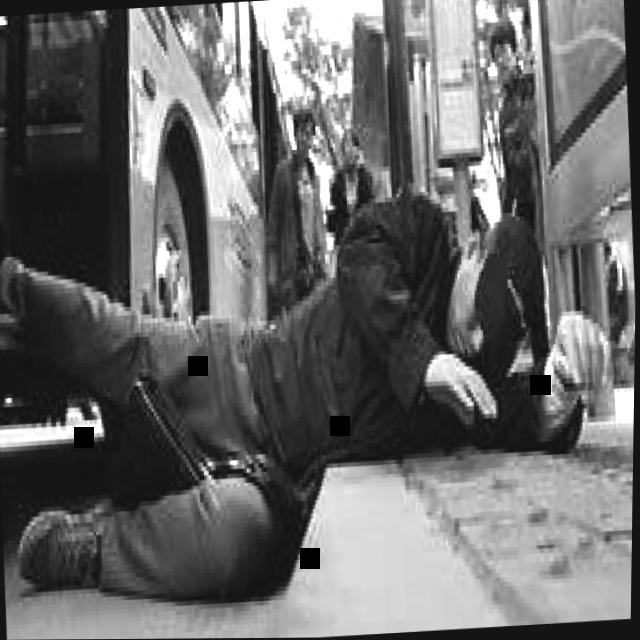Fall-Detected: (0, 139, 638, 620)
